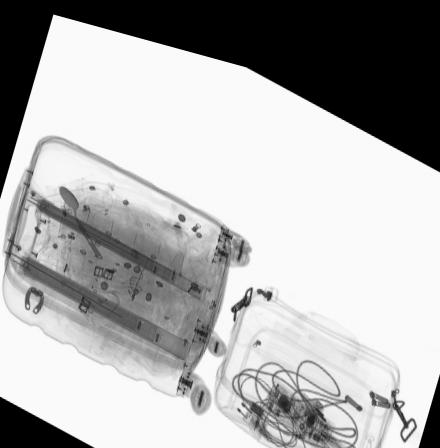Lighter: (79, 198, 101, 228)
